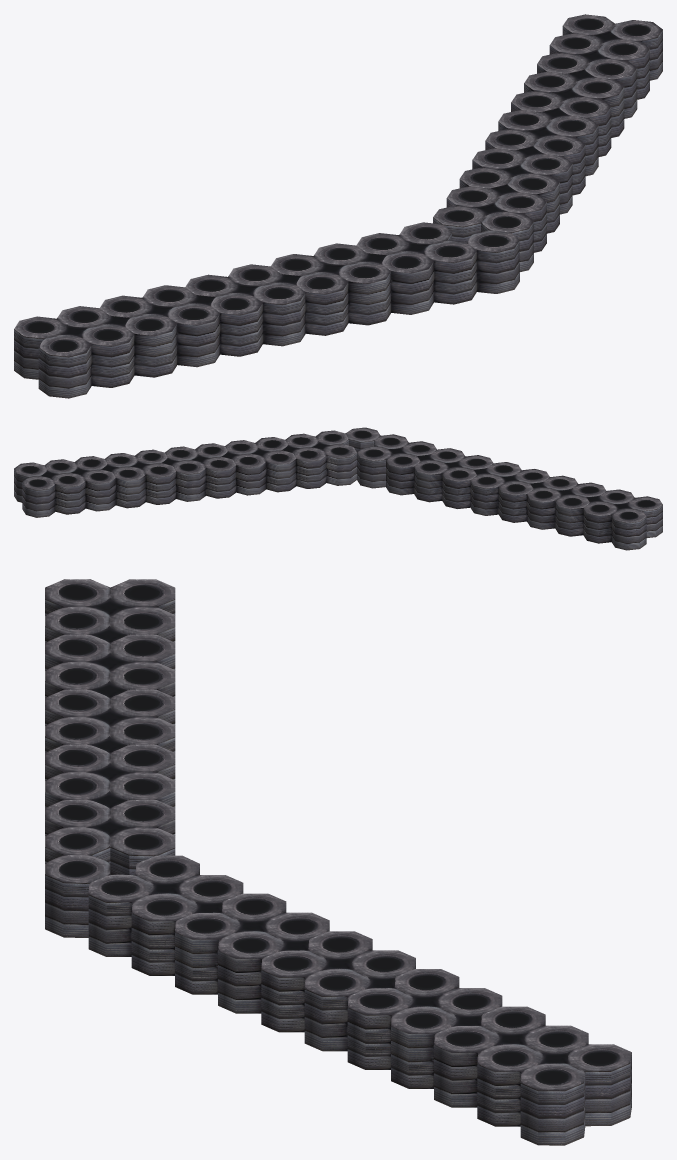
File: Tyre_Wall_Low_Angle_A.fbx
3 renders of one model, top to bottom at view 1: azimuth 30°, elevation 25°; view 2: azimuth 150°, elevation 25°; view 3: azimuth 270°, elevation 25°, orthographic. The views are drawn at different scales.
Parts seen in each view (by area): view 1: Tyres; view 2: Tyres; view 3: Tyres.
Boxes of the visible parts, left/top/right/bottom form: Tyres: left=14, top=14, right=662, bottom=398; Tyres: left=14, top=427, right=662, bottom=550; Tyres: left=45, top=579, right=631, bottom=1145.
Bounding box in the file's own units: 843 × 42.23 × 409.
